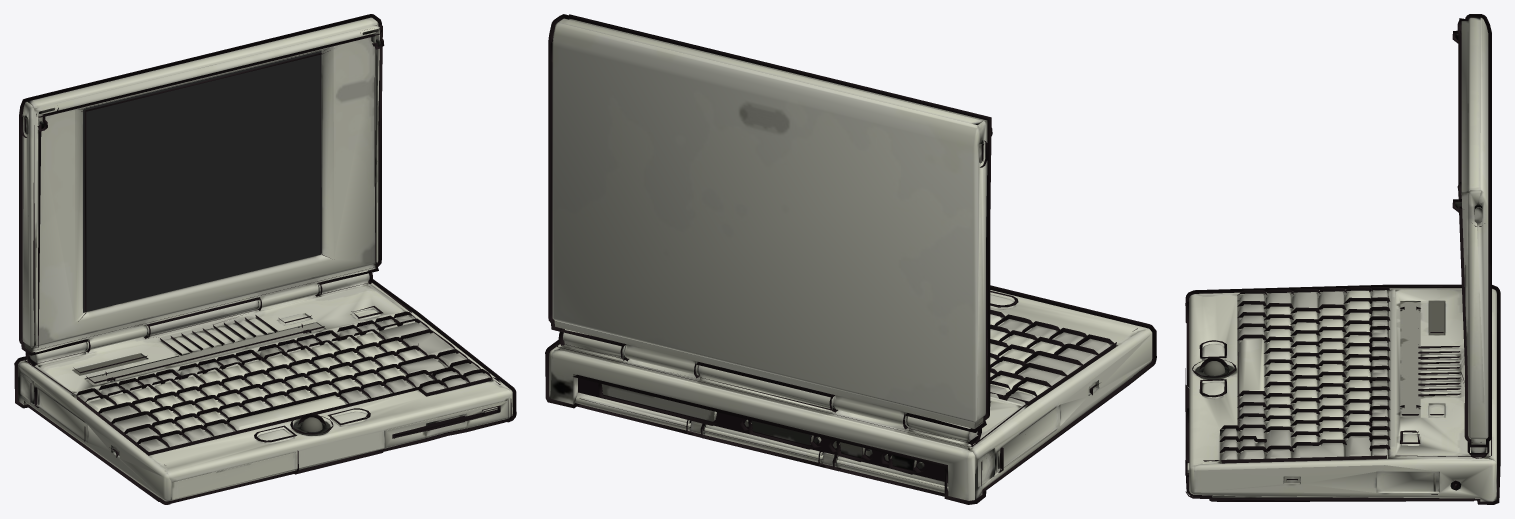
File: SM_Int_Laptop.fbx
3 views of the same model, side by side, from view 1: azimuth 30°, elevation 25°; view 2: azimuth 150°, elevation 25°; view 3: azimuth 270°, elevation 25° (orthographic). The views are drawn at different scales.
Visible parts, largest first — view 1: SM_Int_Laptop; view 2: SM_Int_Laptop; view 3: SM_Int_Laptop.
Boxes of the visible parts, bbox=[...] form: SM_Int_Laptop: bbox=[14, 14, 516, 504]; SM_Int_Laptop: bbox=[545, 14, 1156, 504]; SM_Int_Laptop: bbox=[1185, 14, 1500, 504].
Bounding box in the file's own units: 0.6634 × 0.5534 × 0.4953.
